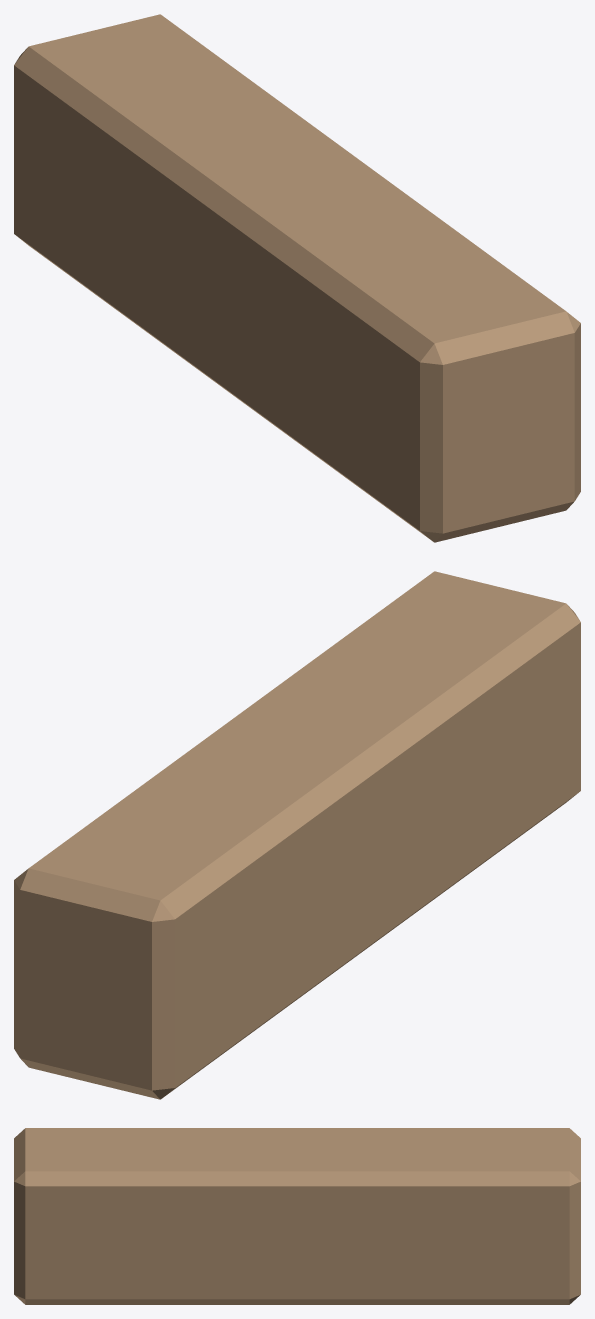
File: ponte_viga.fbx
3 renders of one model, top to bottom at view 1: azimuth 30°, elevation 25°; view 2: azimuth 150°, elevation 25°; view 3: azimuth 270°, elevation 25°, orthographic. The views are drawn at different scales.
Parts seen in each view (by area): view 1: ponte_viga~Viga@wooddark; view 2: ponte_viga~Viga@wooddark; view 3: ponte_viga~Viga@wooddark.
Boxes of the visible parts, bbox=[...] form: ponte_viga~Viga@wooddark: bbox=[14, 14, 580, 542]; ponte_viga~Viga@wooddark: bbox=[14, 571, 580, 1099]; ponte_viga~Viga@wooddark: bbox=[14, 1128, 580, 1304].
Bounding box in the file's own units: 0.22 × 0.26 × 1.
